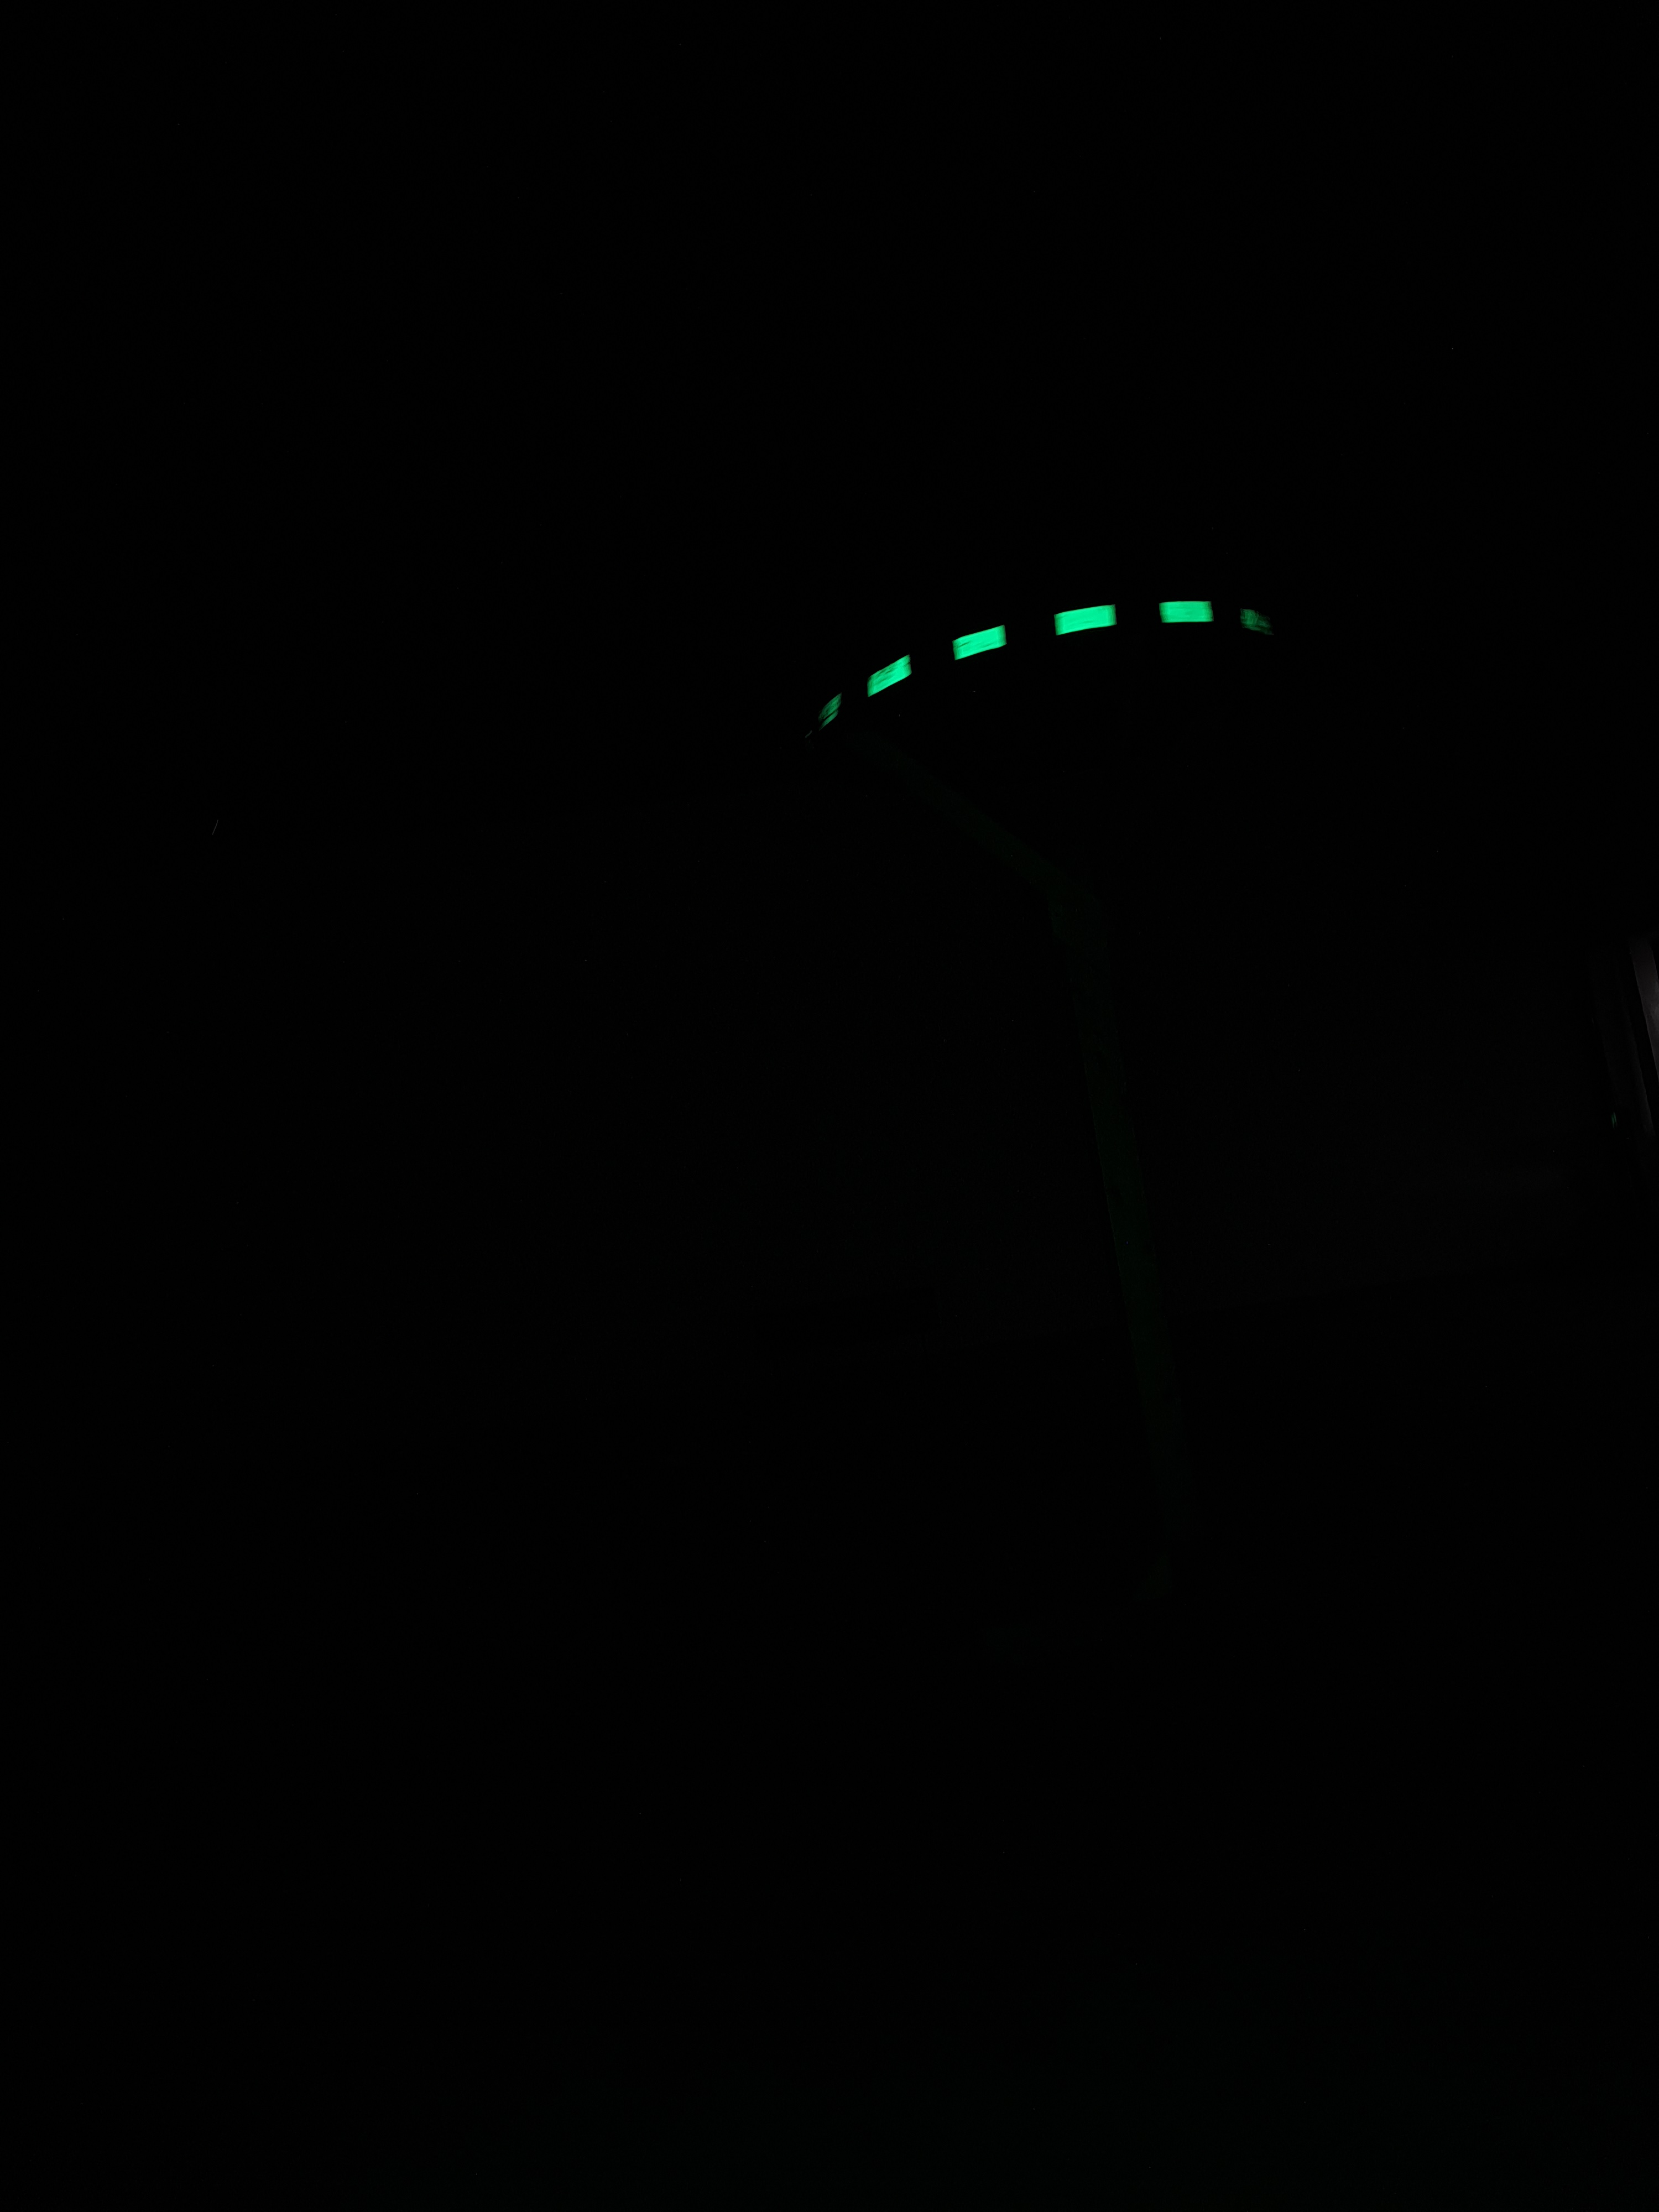hoop: (803, 542, 1307, 752)
